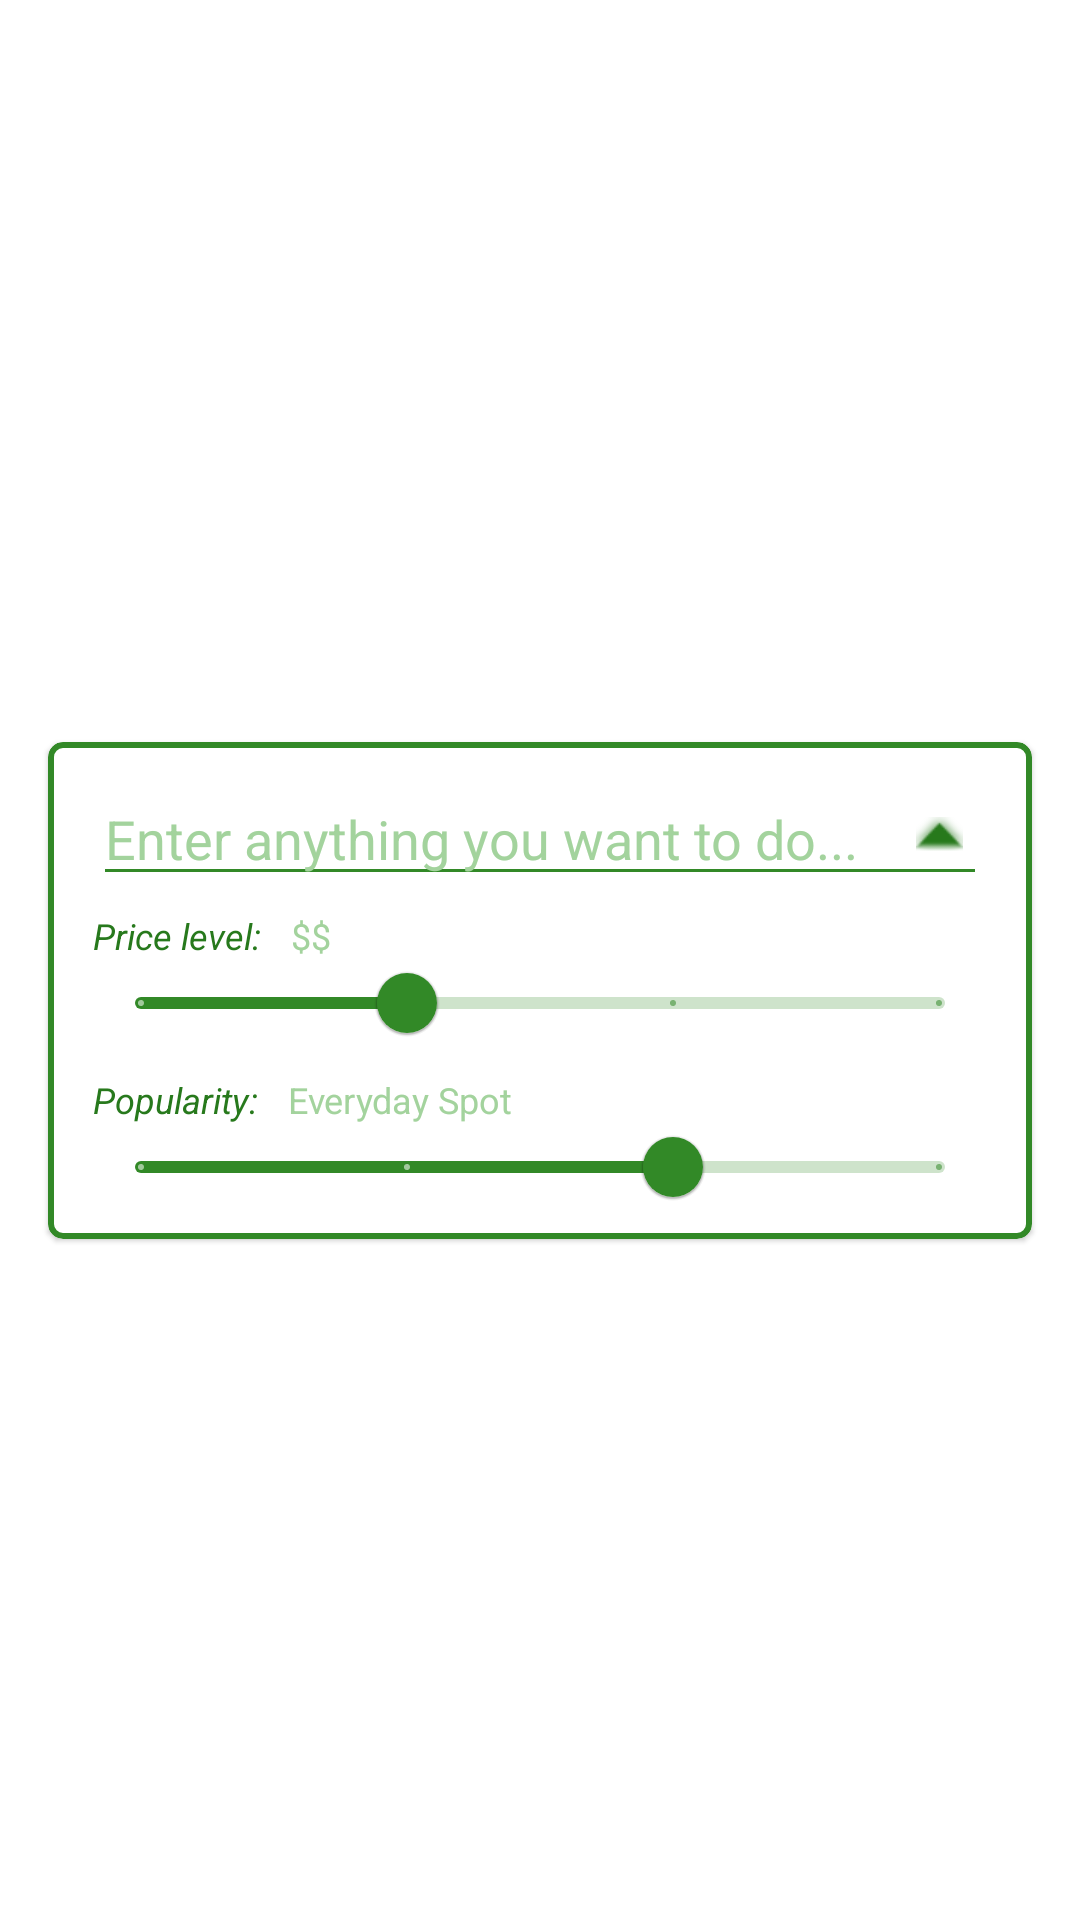

Where icons sit on this 1080x1920 app screen, as (x1, y1, x2, y2):
arrow up float: (916, 818, 963, 850)
